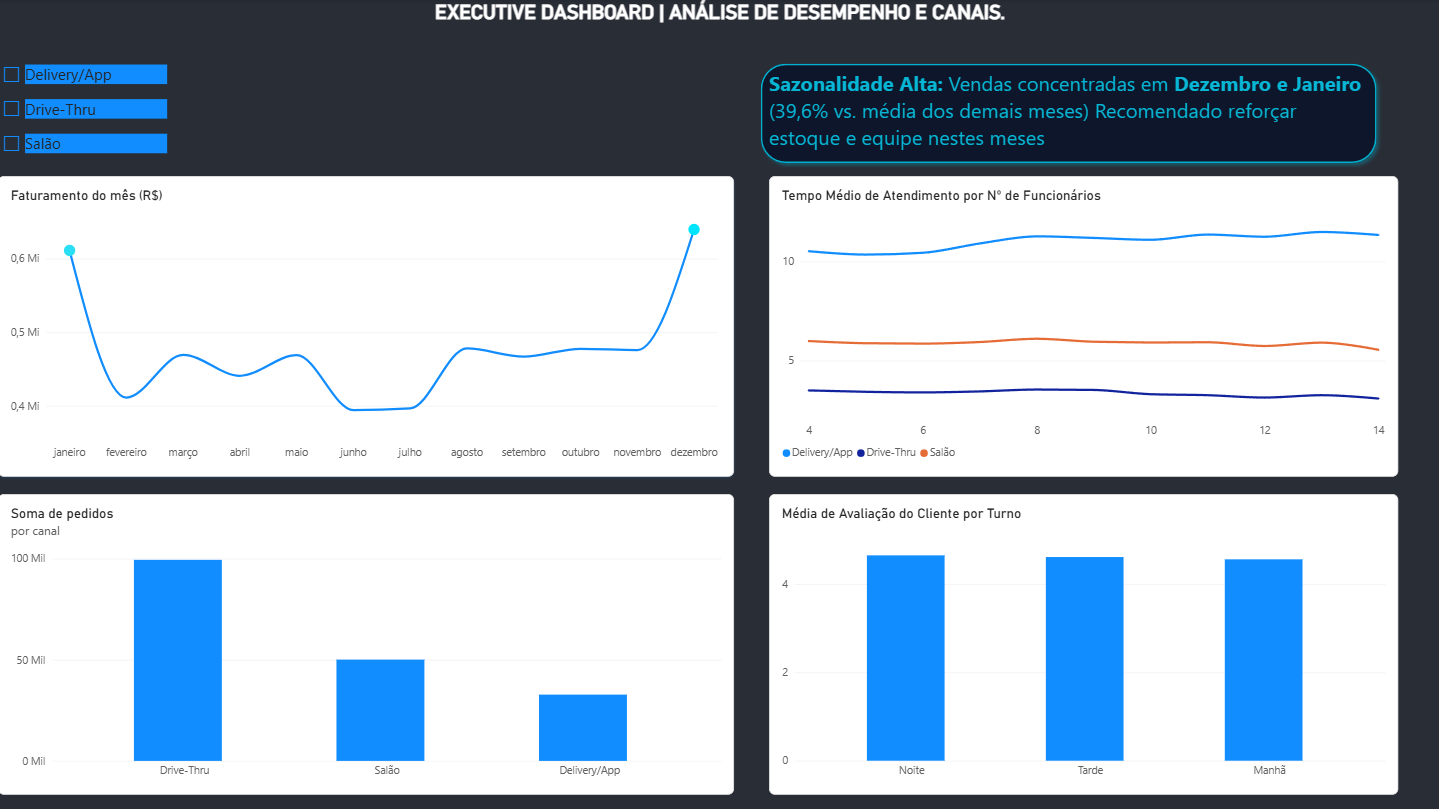

The dashboard page shown, as its layout file describes it:
{"tool":"powerbi","page":{"name":"Página 1","canvas":[1920,1080],"ordinal":0},"visuals":[{"type":"lineChart","title":"Faturamento do mês (R$)","fields":{"Category":["public vendas_lanchonete_2025.data.Variation.Hierarquia de datas.Mês"],"Y":["Sum(public vendas_lanchonete_2025.faturamento)"]},"box":[0,233.4,979,399.8],"z":0},{"type":"columnChart","fields":{"Category":["public vendas_lanchonete_2025.canal"],"Y":["Sum(public vendas_lanchonete_2025.pedidos)"]},"box":[0,656.5,979,400],"z":1},{"type":"lineChart","title":"Tempo Médio de Atendimento por Nº de Funcionários","fields":{"Category":["public vendas_lanchonete_2025.funcionarios_no_turno"],"Series":["public vendas_lanchonete_2025.canal"],"Y":["Median(public vendas_lanchonete_2025.tempo_medio_atendimento_min)"]},"box":[1025.7,233.4,837.4,399.8],"z":2},{"type":"columnChart","title":"Média de Avaliação do Cliente por Turno","fields":{"Category":["public vendas_lanchonete_2025.turno"],"Y":["Avg(public vendas_lanchonete_2025.avaliacao_media_cliente)"]},"box":[1025.7,656.5,837.4,399.8],"z":3},{"type":"shape","box":[1005.2,75.9,837,150],"z":5},{"type":"textbox","box":[1025.5,91.8,795.1,134.2],"z":6},{"type":"shape","title":"EXECUTIVE DASHBOARD | ANÁLISE DE DESEMPENHO E CANAIS.","box":[0,0,1920,35],"z":8},{"type":"slicer","fields":{"Values":["public vendas_lanchonete_2025.canal"]},"box":[0,75.8,224.8,150.3],"z":9}]}

Visuals, with their boxes in screenshot pixels (x1, y1, x2, y2), scaled from the page's 1920x1080 canvas onto the 1439x809 screenshot:
"Faturamento do mês (R$)" lineChart: x1=0 y1=175 x2=734 y2=474
columnChart - public vendas_lanchonete_2025.canal x Sum(public vendas_lanchonete_2025.pedidos): x1=0 y1=492 x2=734 y2=791
"Tempo Médio de Atendimento por Nº de Funcionários" lineChart: x1=769 y1=175 x2=1396 y2=474
"Média de Avaliação do Cliente por Turno" columnChart: x1=769 y1=492 x2=1396 y2=791
shape: x1=753 y1=57 x2=1381 y2=169
textbox: x1=769 y1=69 x2=1365 y2=169
"EXECUTIVE DASHBOARD | ANÁLISE DE DESEMPENHO E CANAIS." shape: x1=0 y1=0 x2=1438 y2=26
slicer - public vendas_lanchonete_2025.canal: x1=0 y1=57 x2=168 y2=169
